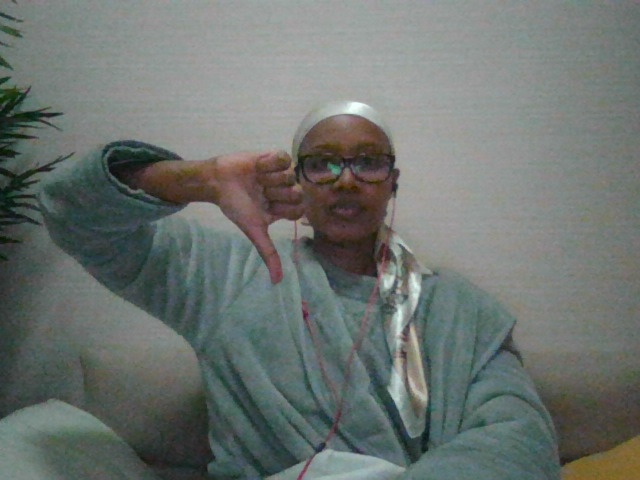dislike: (207, 143, 311, 290)
